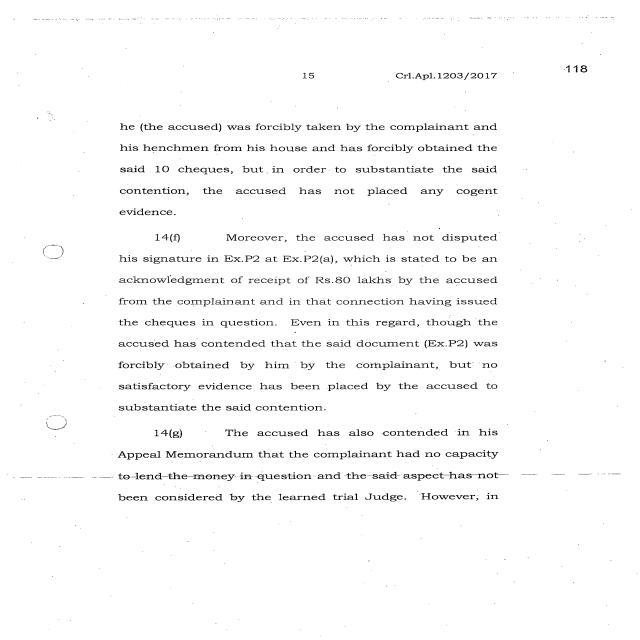page-number: (502, 19, 636, 130)
